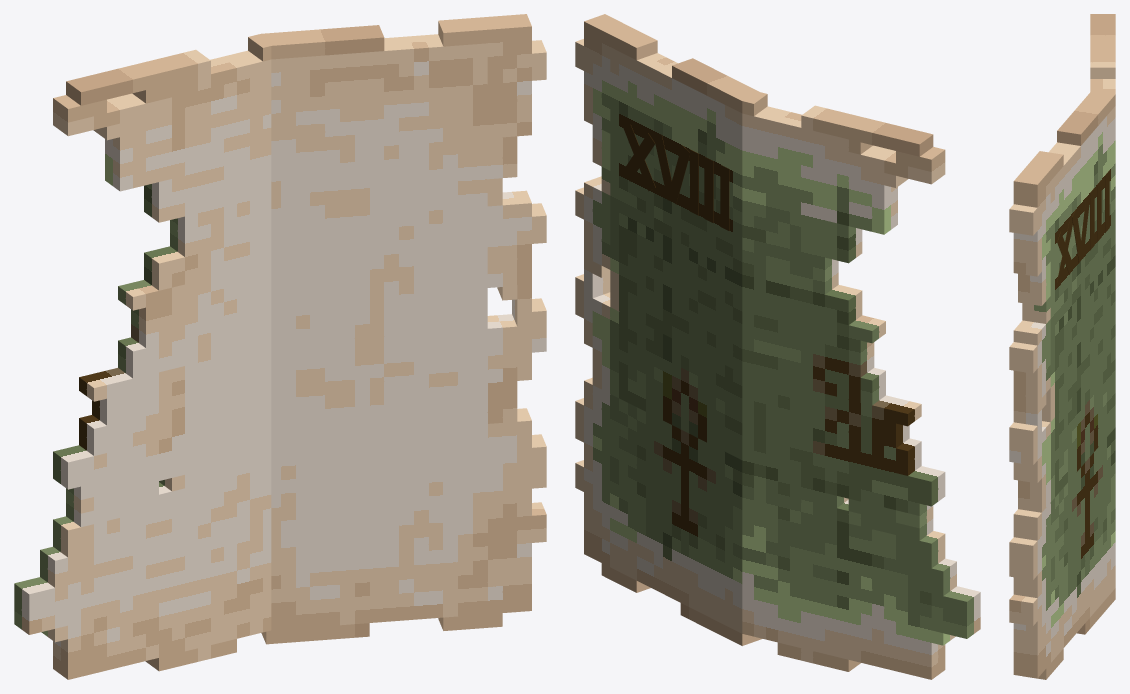
Rendered from lost_page_07R_XVIII.gltf.
3 views of the same model, side by side, from view 1: azimuth 30°, elevation 25°; view 2: azimuth 150°, elevation 25°; view 3: azimuth 270°, elevation 25° (orthographic). The views are drawn at different scales.
Visible parts, largest first — view 1: MapRight$$(2)-Local, MapCenter$$(2)-Local; view 2: MapCenter$$(2)-Local, MapRight$$(2)-Local, II-Local, III-Local, V01$$(1)-Local, V01-Local; view 3: MapRight$$(2)-Local, MapCenter$$(2)-Local, V01$$(1)-Local, I-Local, III-Local, II-Local, V01-Local, V02$$(1)-Local, V02-Local.
Boxes of the visible parts, bbox=[...] form: MapRight$$(2)-Local: bbox=[261, 14, 546, 644]; MapCenter$$(2)-Local: bbox=[14, 34, 271, 679]; MapCenter$$(2)-Local: bbox=[742, 92, 980, 679]; MapRight$$(2)-Local: bbox=[575, 14, 762, 645]; II-Local: bbox=[704, 157, 713, 222]; III-Local: bbox=[720, 165, 729, 230]; V01$$(1)-Local: bbox=[653, 134, 675, 200]; V01-Local: bbox=[623, 124, 655, 191]; MapRight$$(2)-Local: bbox=[1009, 90, 1115, 679]; MapCenter$$(2)-Local: bbox=[1090, 14, 1115, 94]; V01$$(1)-Local: bbox=[1072, 209, 1083, 262]; I-Local: bbox=[1090, 188, 1094, 250]; III-Local: bbox=[1105, 171, 1109, 232]; II-Local: bbox=[1097, 180, 1101, 242]; V01-Local: bbox=[1057, 232, 1073, 274]; V02$$(1)-Local: bbox=[1080, 196, 1090, 258]; V02-Local: bbox=[1057, 221, 1072, 285].
Bounding box in the file's own units: 36.85 × 44 × 8.38.
9 materials, 9 textured.
